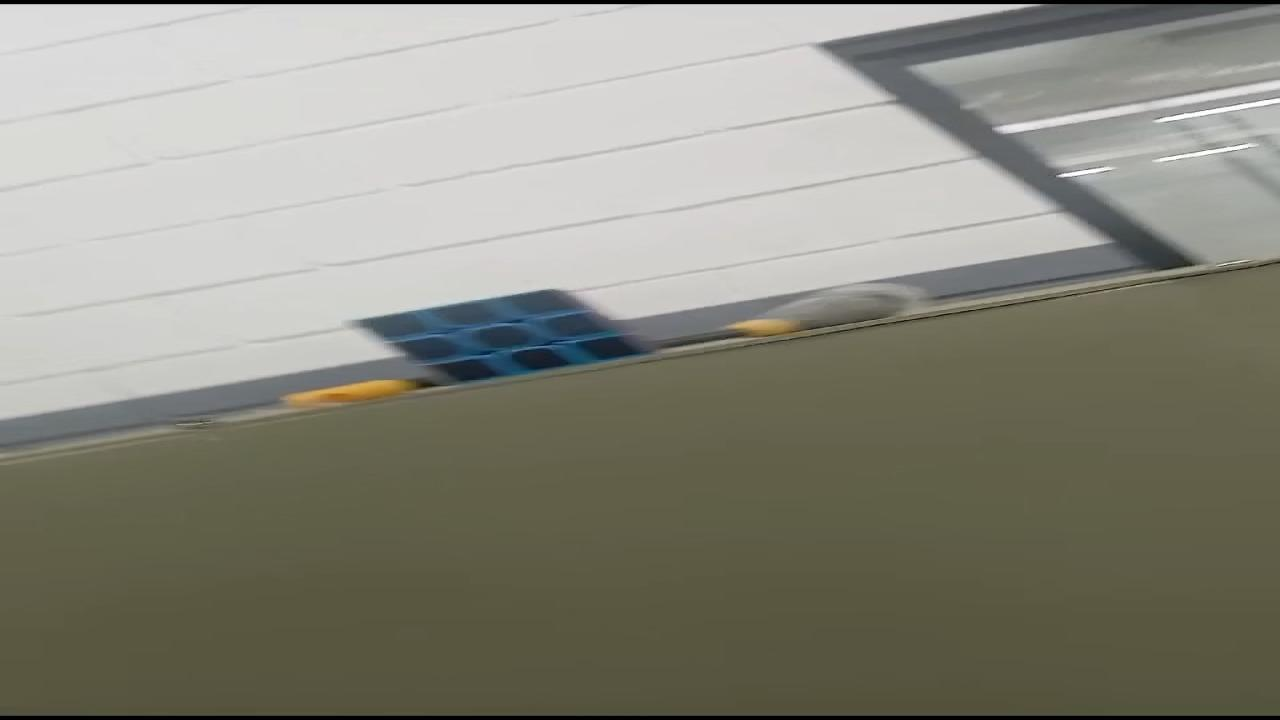Cube: (344, 286, 648, 382)
